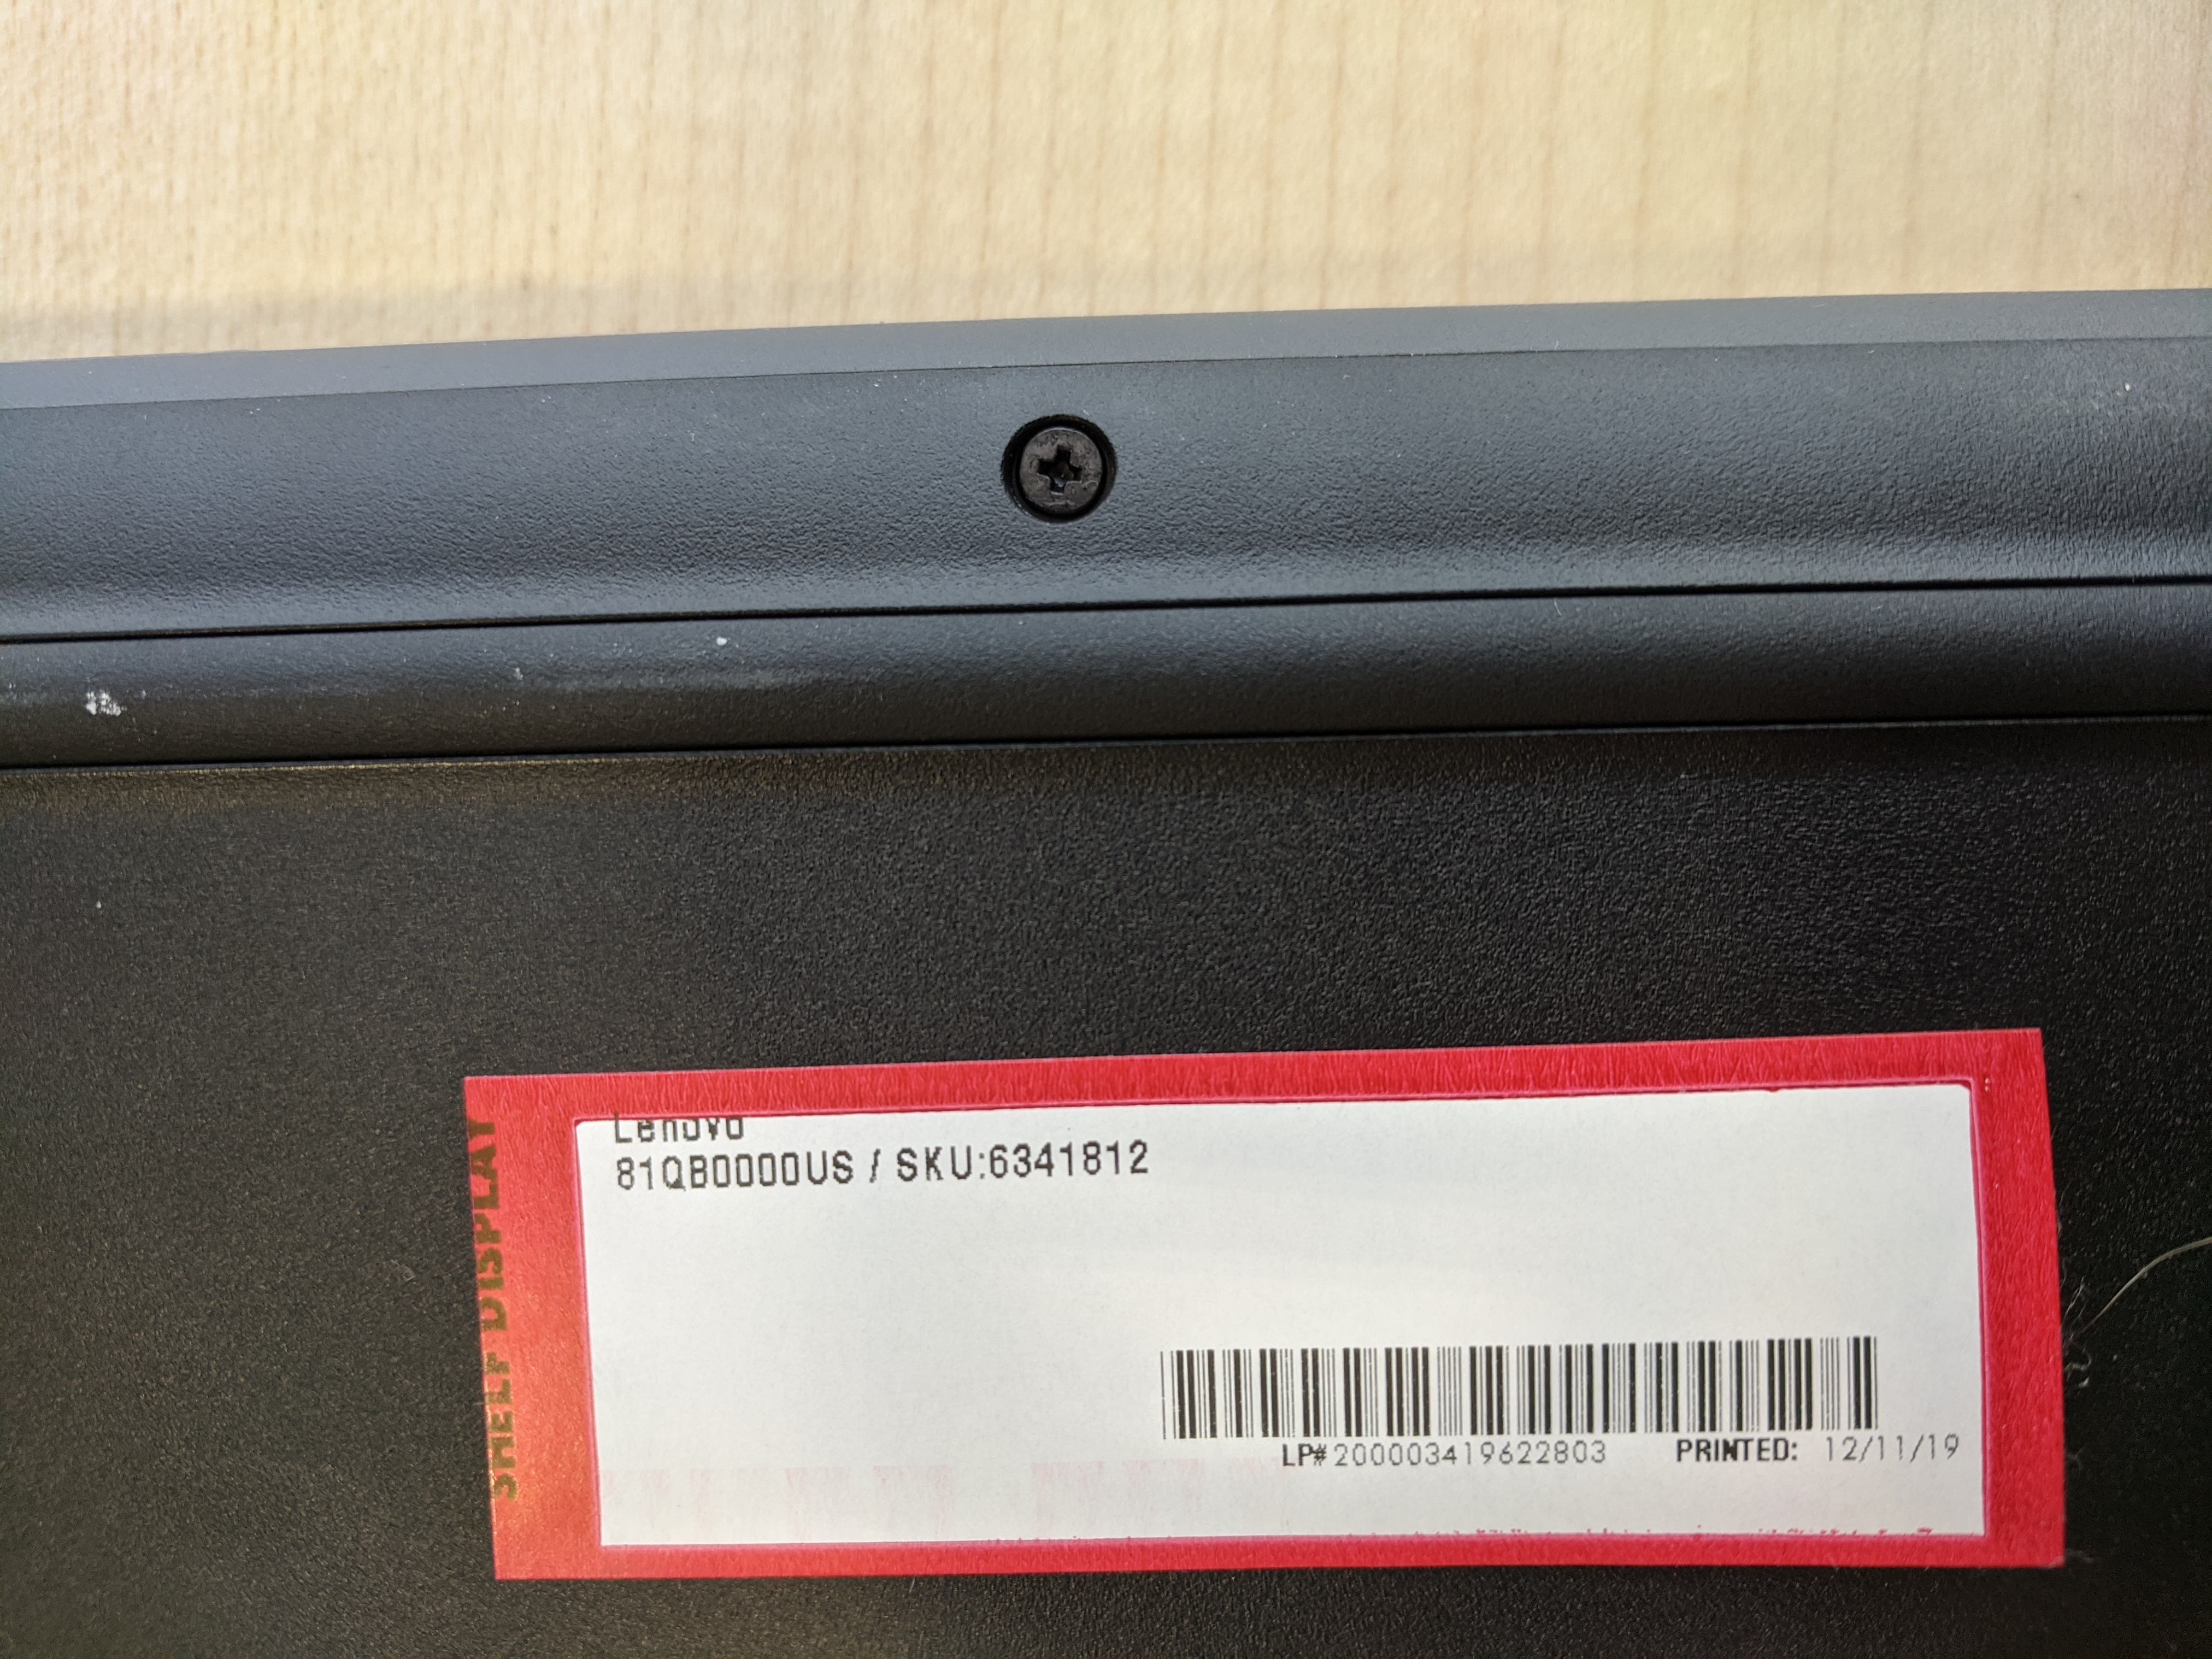cross_recessed_screw: (996, 404, 1129, 525)
